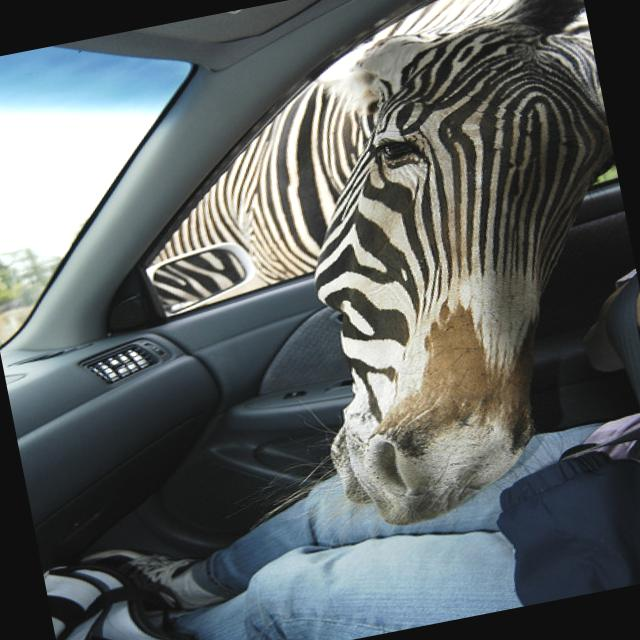Vehicle: (0, 0, 629, 587)
